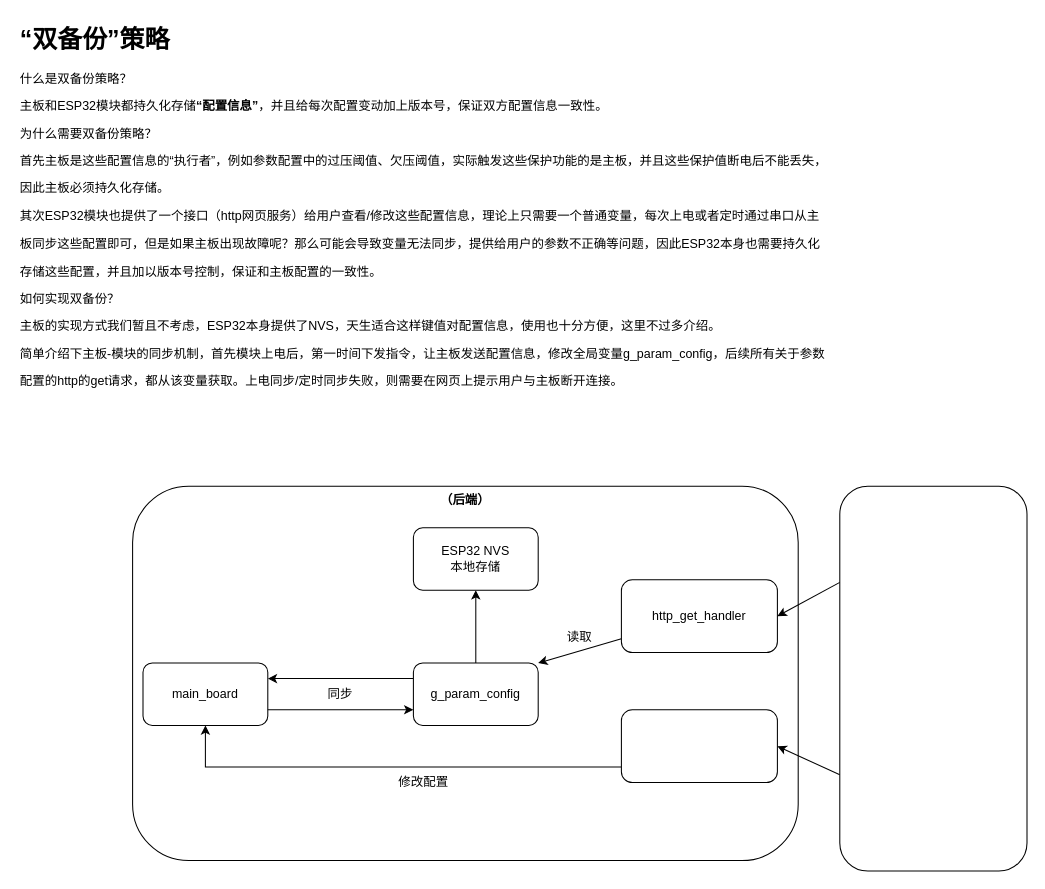
The diagram is 1045 pixels wide and 889 high, and some of its shapes have lost their labels. Here are the shapes that lost their labels. From the top down, the centre of each, then its label:
At pixel 933 678: "（前端） 网页".
At pixel 698 746: "http_post_handler".
